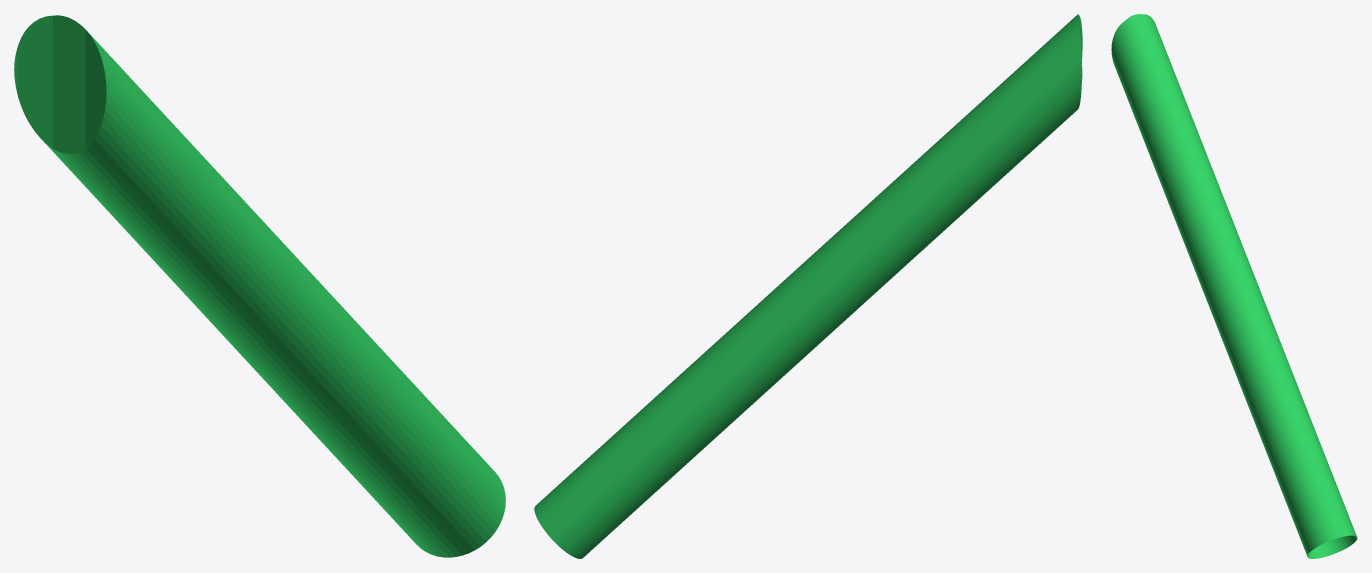
3 renders of one model, left to right at view 1: azimuth 30°, elevation 25°; view 2: azimuth 150°, elevation 25°; view 3: azimuth 270°, elevation 25°, orthographic. The views are drawn at different scales.
Parts seen in each view (by area): view 1: pipe_2; view 2: pipe_2; view 3: pipe_2.
Part boxes in pixels (bbox=[...]): pipe_2: bbox=[14, 15, 505, 557]; pipe_2: bbox=[534, 14, 1082, 558]; pipe_2: bbox=[1111, 14, 1357, 558].
Bounding box in the file's own units: 2.52 × 1.65 × 3.
